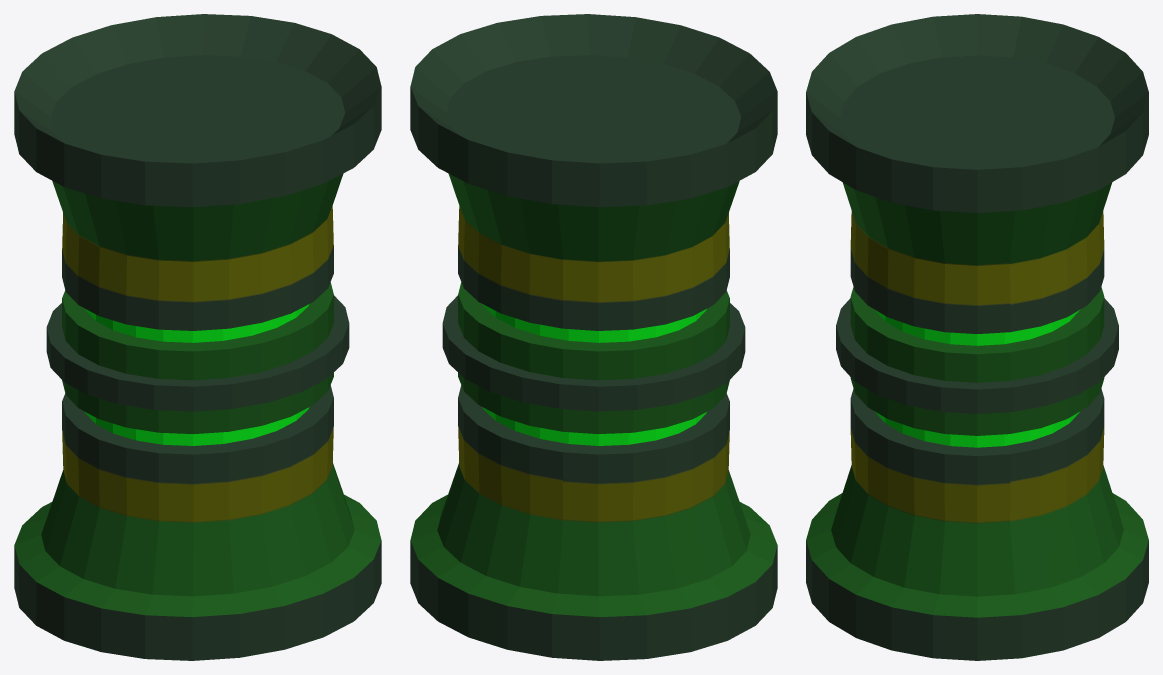
File: ToxicCrate.fbx
3 views of the same model, side by side, from view 1: azimuth 30°, elevation 25°; view 2: azimuth 150°, elevation 25°; view 3: azimuth 270°, elevation 25° (orthographic).
Visible parts, largest first — view 1: Cylinder; view 2: Cylinder; view 3: Cylinder.
Boxes of the visible parts, left/top/right/bottom form: Cylinder: left=14, top=14, right=381, bottom=660; Cylinder: left=410, top=14, right=777, bottom=660; Cylinder: left=806, top=14, right=1148, bottom=660.
Bounding box in the file's own units: 758 × 1114 × 705.
